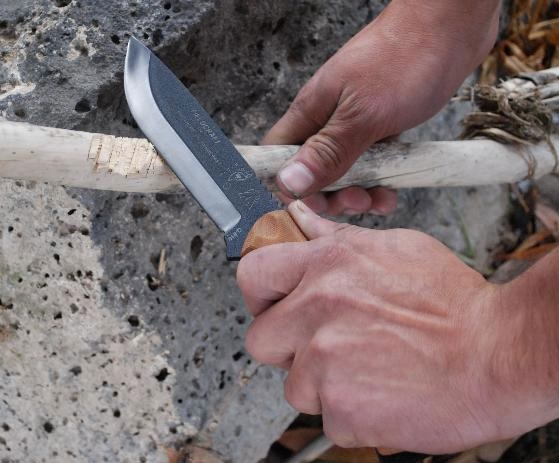knife: (110, 26, 319, 403)
